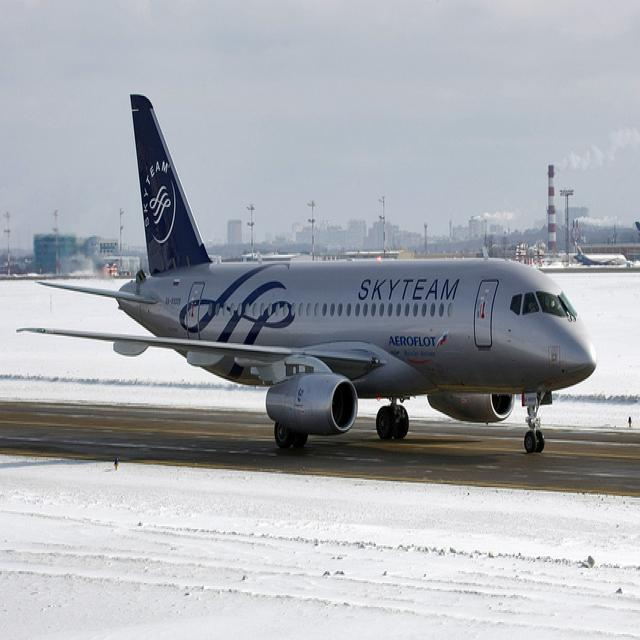airplane: (14, 90, 598, 455)
